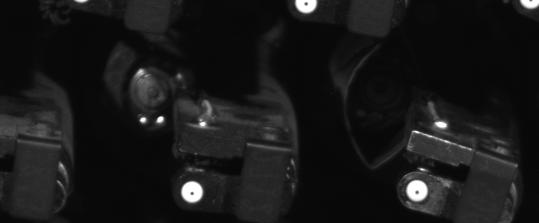fiber: (400, 173, 437, 207), (178, 176, 212, 210), (288, 1, 327, 22)
